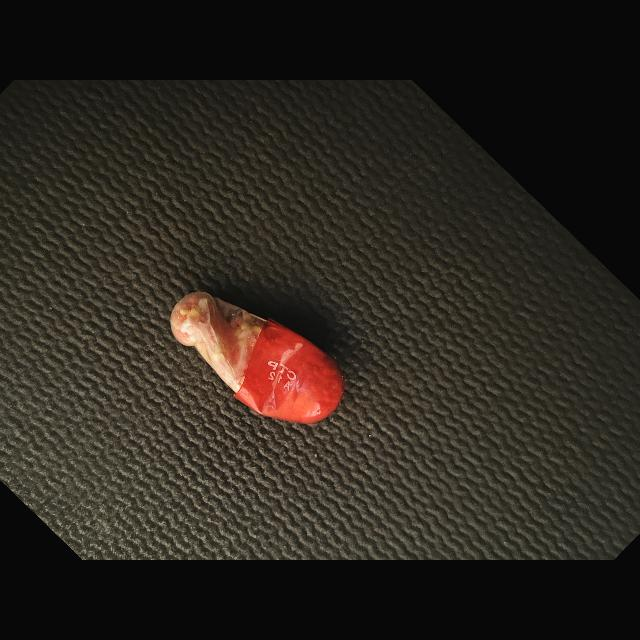Defective Capsule: (170, 292, 344, 424)
